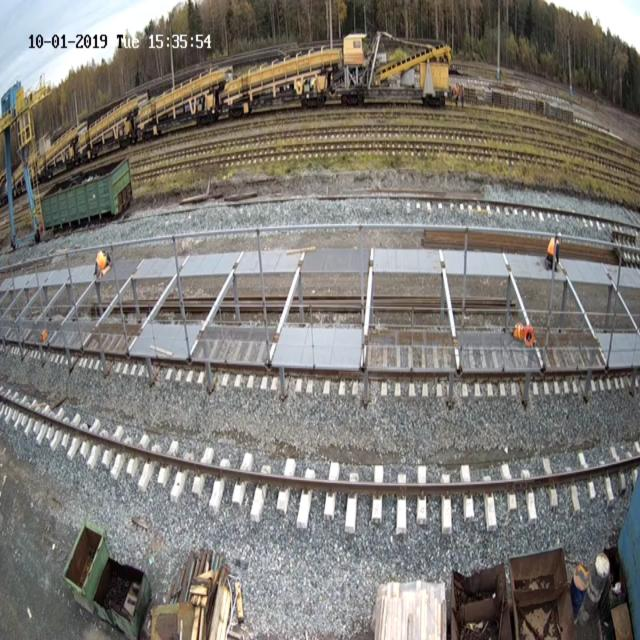Helmet: (96, 250, 107, 270)
Person: (94, 250, 112, 317), (544, 234, 560, 272), (454, 82, 460, 107), (460, 83, 465, 107)
